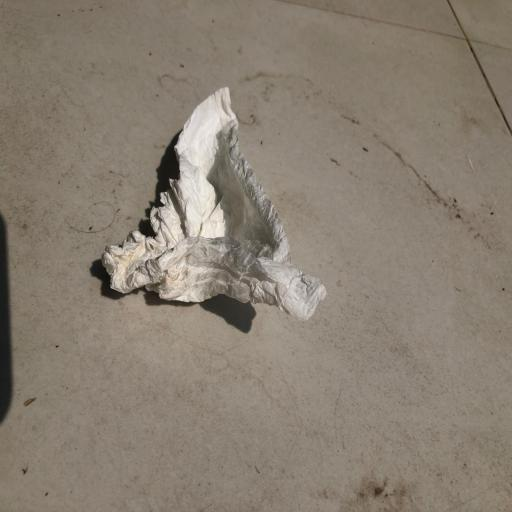waste: (93, 75, 331, 339)
